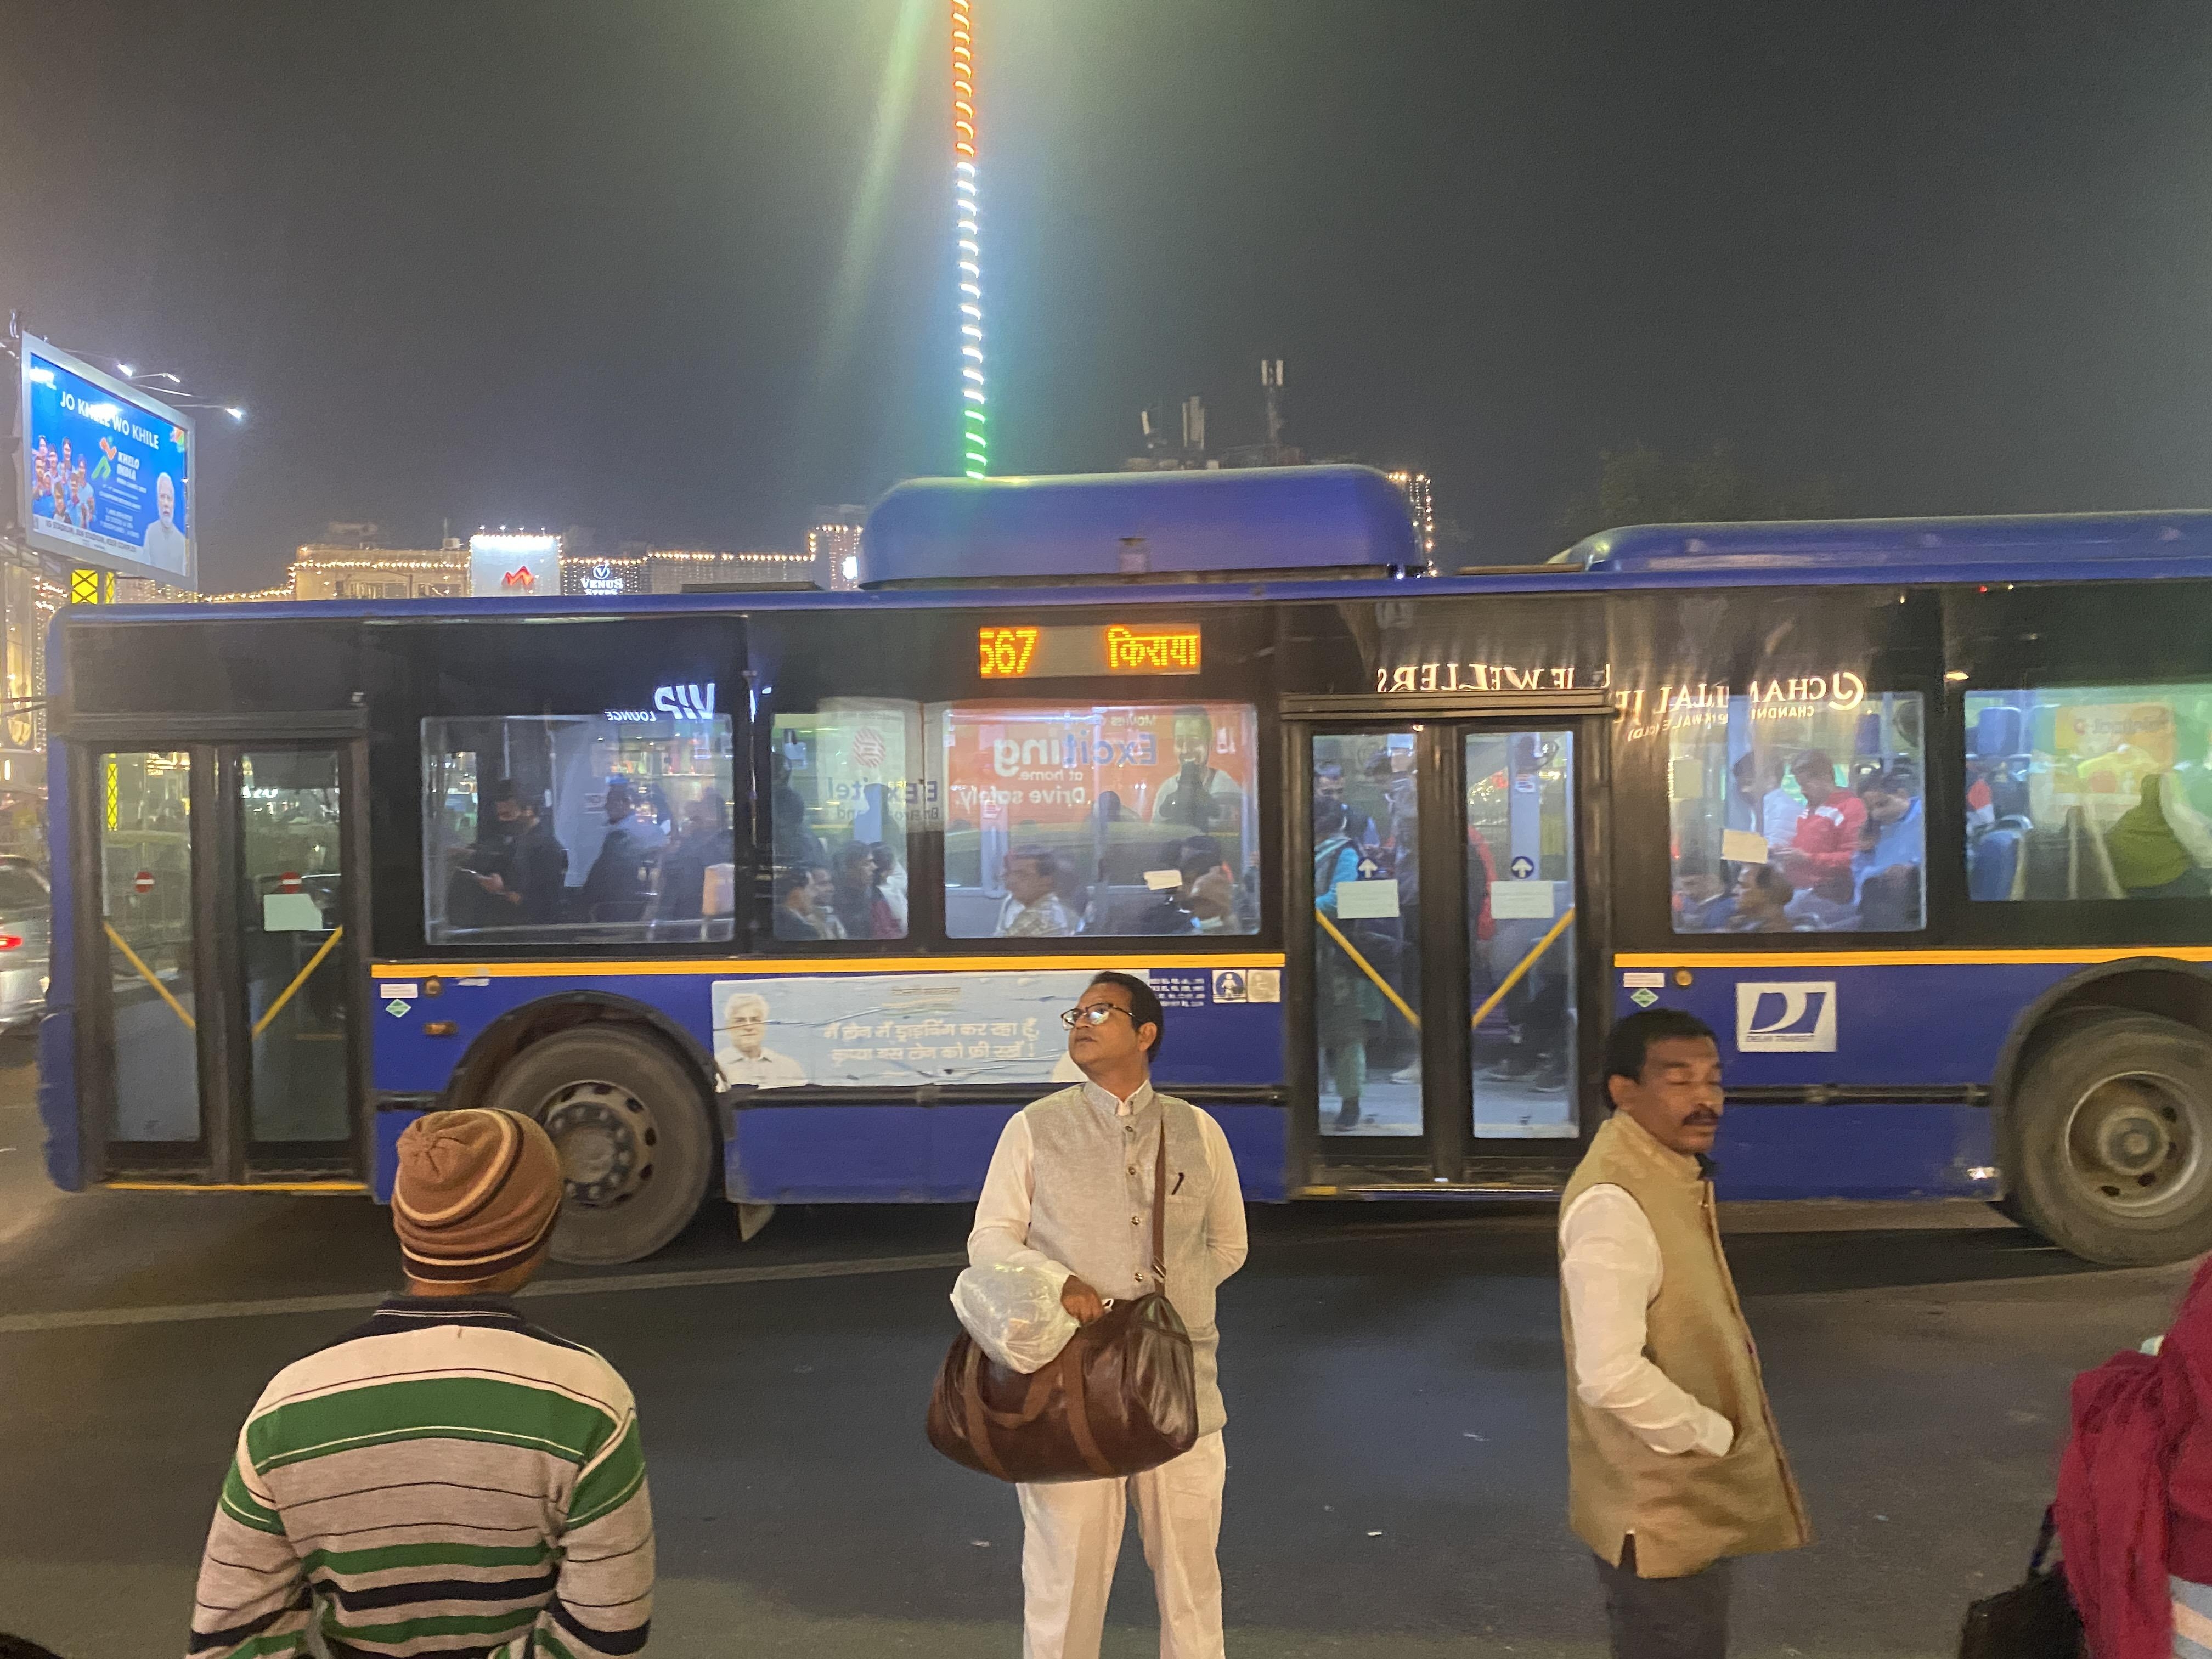Bus: (0, 511, 2212, 1305)
Display Board: (932, 603, 1294, 713)
